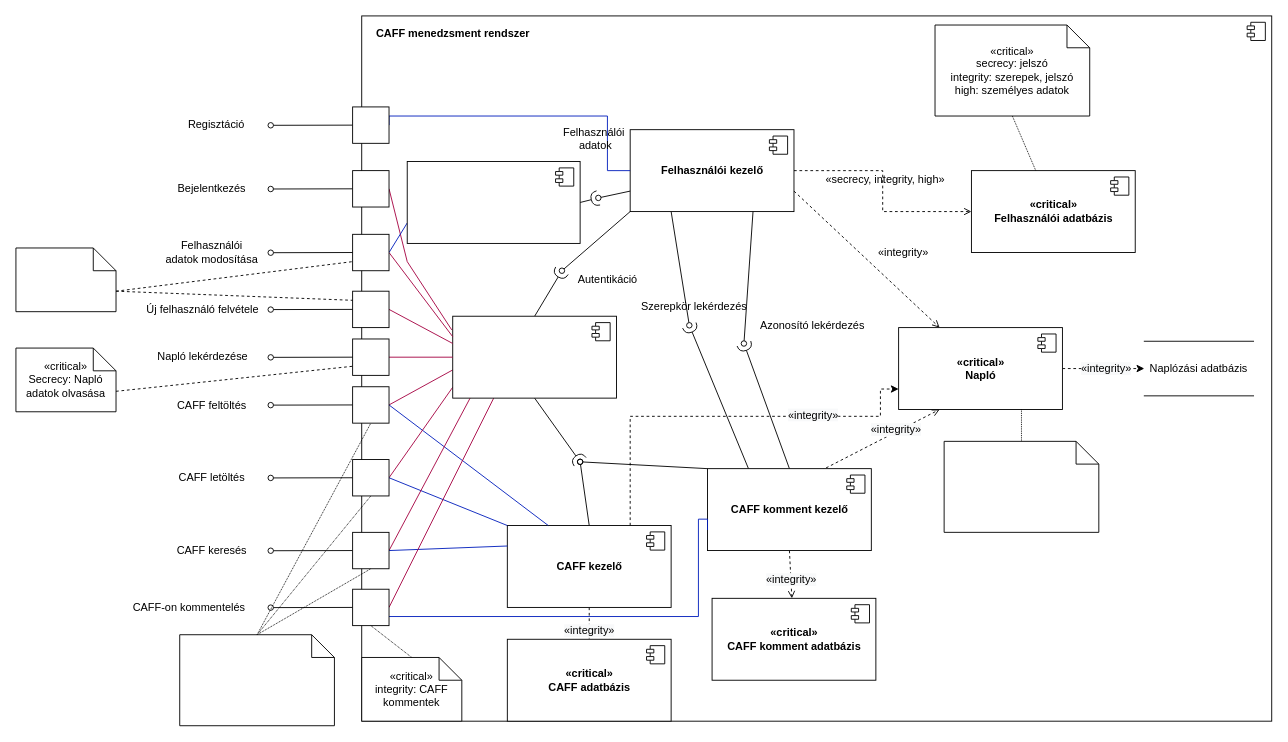
This 1288x742 diagram has some shape labels left out. The shapes that lost their labels are listed below. From the top down, each one's box as (x1, y1, x2, y2) in pixels, then its label:
(406, 161, 580, 243): Hozzáférés védelmi komponens
(15, 247, 116, 312): «critical» Integrity: Felhasználói adatok modosítása
(452, 315, 617, 398): Autentikációs komponens
(943, 440, 1099, 532): «critical» integrity: CAFF-ok és hozzájuk tartozó kommentek
(179, 634, 334, 726): «critical» integrity: CAFF-ok
